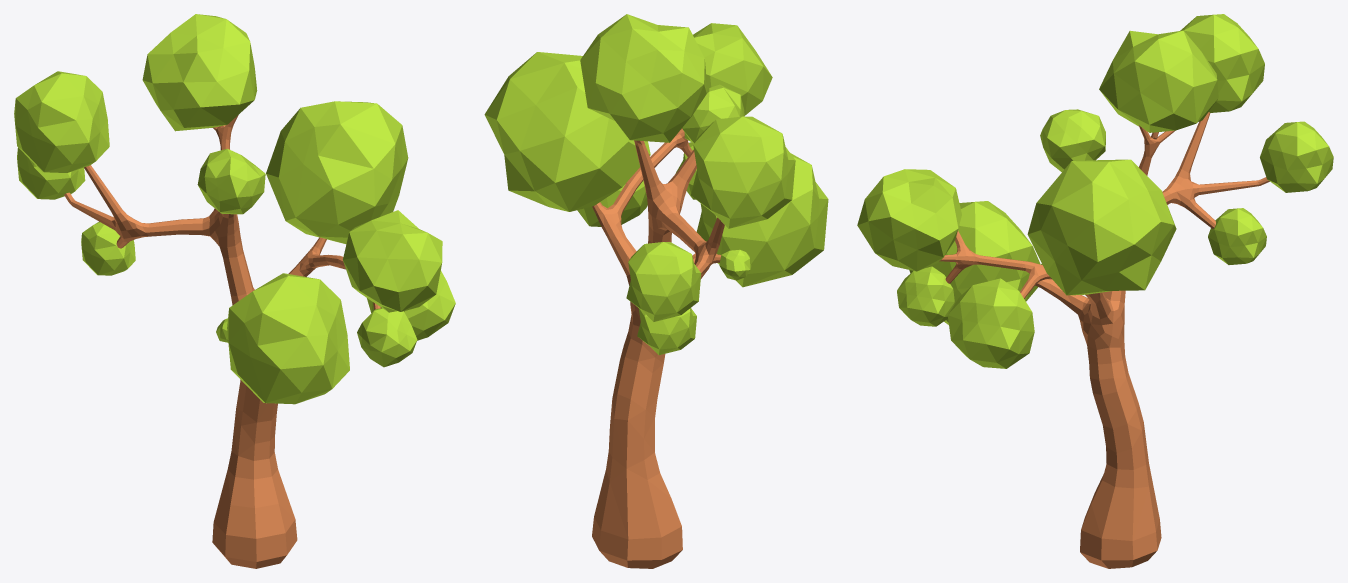
The model's file is Tree_Summer.fbx.
The picture shows the model from 3 angles, left to right: view 1: azimuth 30°, elevation 25°; view 2: azimuth 150°, elevation 25°; view 3: azimuth 270°, elevation 25°; orthographic projection. The views are drawn at different scales.
Visible parts, largest first — view 1: Trunk, Icosphere.009, Icosphere.010, Icosphere.003, Icosphere.001, Icosphere.006, Icosphere.005, Icosphere.007, Icosphere.002, Foliage, Icosphere.008; view 2: Trunk, Icosphere.009, Icosphere.003, Icosphere.001, Icosphere.010, Foliage, Icosphere.006, Icosphere.002, Icosphere.005, Icosphere.008, Icosphere.004; view 3: Trunk, Icosphere.009, Icosphere.003, Icosphere.006, Icosphere.008, Icosphere.010, Icosphere.001, Foliage, Icosphere.005, Icosphere.007, Icosphere.002.
Part boxes in pixels (x1,y1,x2,y2): Trunk: [64, 115, 380, 568]; Icosphere.009: [266, 101, 408, 243]; Icosphere.010: [227, 273, 349, 404]; Icosphere.003: [142, 14, 257, 131]; Icosphere.001: [14, 71, 109, 172]; Icosphere.006: [343, 210, 442, 312]; Icosphere.005: [197, 148, 265, 214]; Icosphere.007: [357, 308, 417, 367]; Icosphere.002: [81, 221, 135, 275]; Foliage: [17, 147, 85, 199]; Icosphere.008: [367, 270, 455, 340]; Trunk: [592, 128, 724, 568]; Icosphere.009: [484, 52, 650, 211]; Icosphere.003: [580, 14, 706, 142]; Icosphere.001: [690, 116, 795, 228]; Icosphere.010: [696, 153, 828, 287]; Foliage: [626, 242, 701, 321]; Icosphere.006: [693, 23, 772, 115]; Icosphere.002: [637, 308, 696, 355]; Icosphere.005: [682, 84, 744, 143]; Icosphere.008: [577, 180, 647, 226]; Icosphere.004: [719, 249, 751, 280]; Trunk: [939, 112, 1269, 568]; Icosphere.009: [1027, 159, 1176, 295]; Icosphere.003: [1099, 30, 1218, 132]; Icosphere.006: [857, 169, 961, 271]; Icosphere.008: [947, 278, 1034, 368]; Icosphere.010: [909, 201, 1040, 324]; Icosphere.001: [1180, 14, 1264, 112]; Foliage: [1260, 121, 1333, 192]; Icosphere.005: [1040, 109, 1105, 171]; Icosphere.007: [897, 266, 954, 326]; Icosphere.002: [1208, 208, 1266, 264].
Size of the model in its own units: 496 by 761 by 634.
